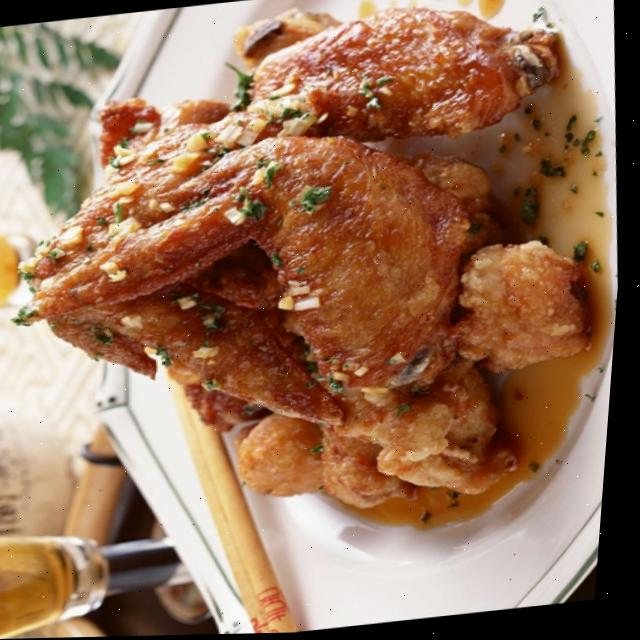鸡肉料理 含炸鸡: (0, 0, 640, 566)
